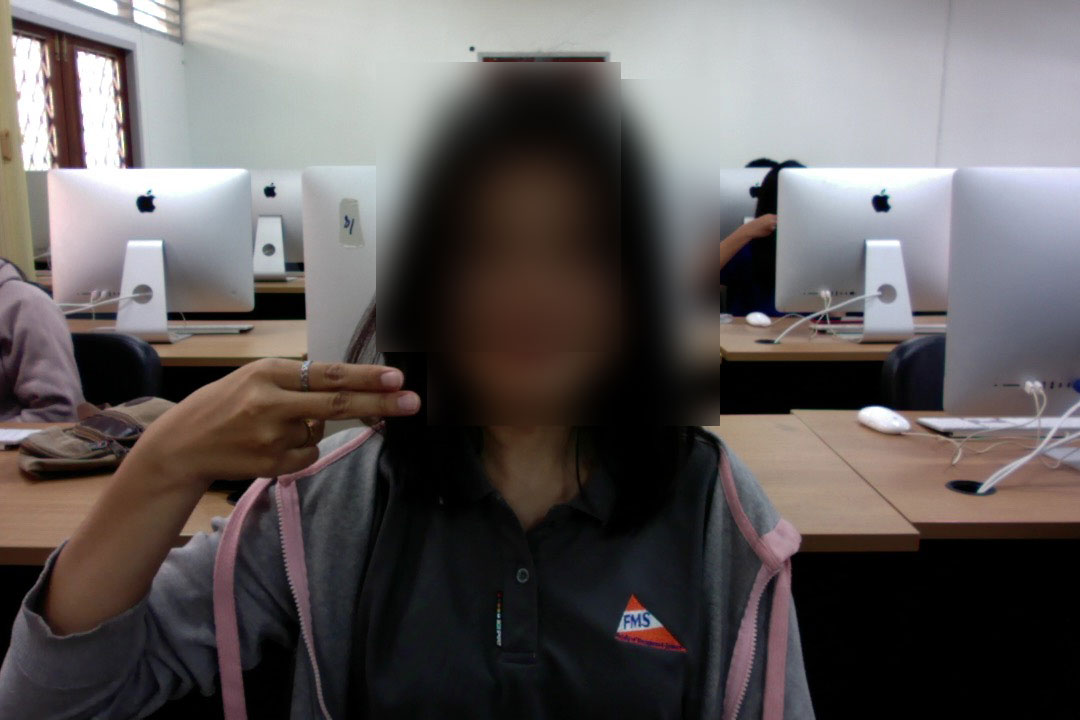hor: (162, 347, 425, 492)
